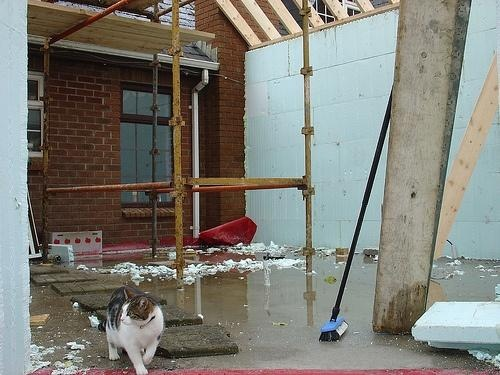cat: (94, 284, 166, 370)
